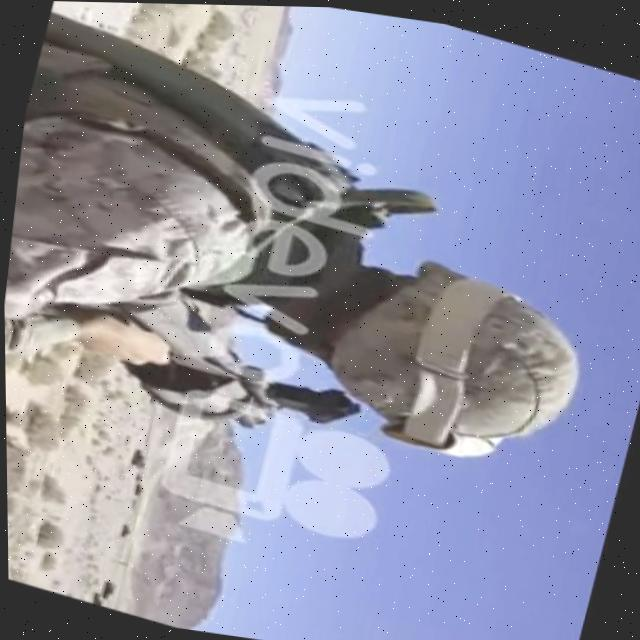rocket: (86, 266, 375, 463)
